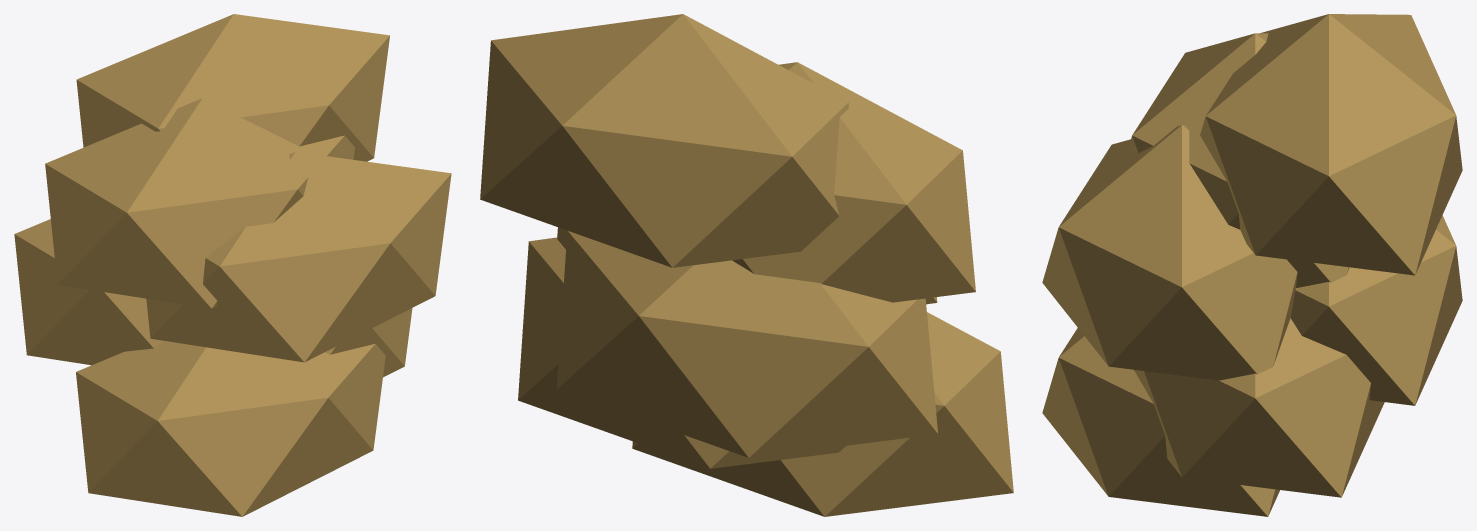
The model's file is w3d_item_emmer_seed_l.glb.
The picture shows the model from 3 angles, left to right: view 1: azimuth 30°, elevation 25°; view 2: azimuth 150°, elevation 25°; view 3: azimuth 270°, elevation 25°; orthographic projection. The views are drawn at different scales.
Parts seen in each view (by area): view 1: item_031_emmer_seed_l; view 2: item_031_emmer_seed_l; view 3: item_031_emmer_seed_l.
Boxes of the visible parts, left/top/right/bottom form: item_031_emmer_seed_l: left=14, top=14, right=451, bottom=516; item_031_emmer_seed_l: left=480, top=14, right=1013, bottom=516; item_031_emmer_seed_l: left=1042, top=14, right=1462, bottom=516.
Size of the model in its own units: 0.4093 by 0.4554 by 0.343.
